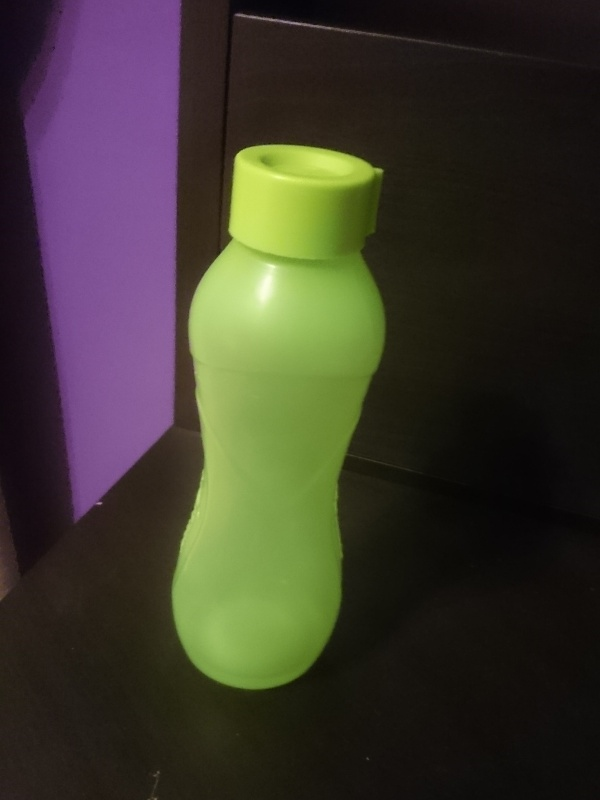my bottle: (167, 145, 385, 689)
